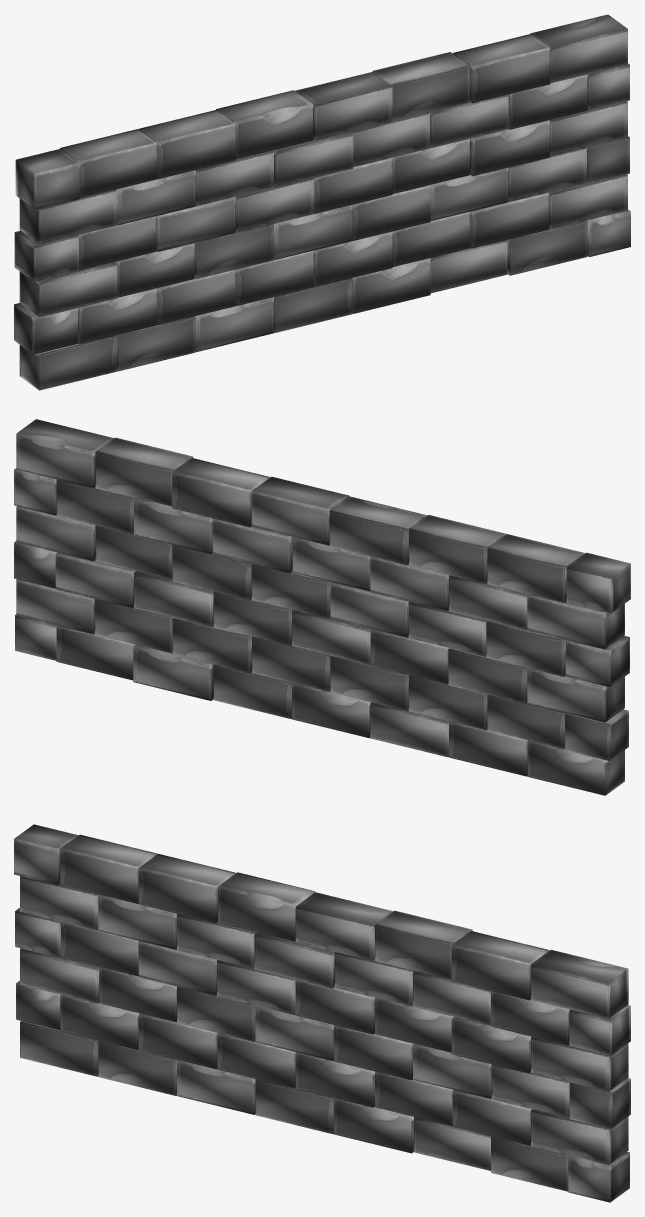
Rendered from brick_wall_1.fbx.
The picture shows the model from 3 angles, top to bottom: view 1: azimuth 30°, elevation 25°; view 2: azimuth 150°, elevation 25°; view 3: azimuth 330°, elevation 25°; orthographic projection.
Parts seen in each view (by area): view 1: brick_wall_1; view 2: brick_wall_1; view 3: brick_wall_1.
Boxes of the visible parts, x1,y1,x2,y2 form: brick_wall_1: (14,14,630,390); brick_wall_1: (14,419,630,795); brick_wall_1: (14,824,630,1202).
Size of the model in its own units: 6.02 by 2.11 by 0.3914.
